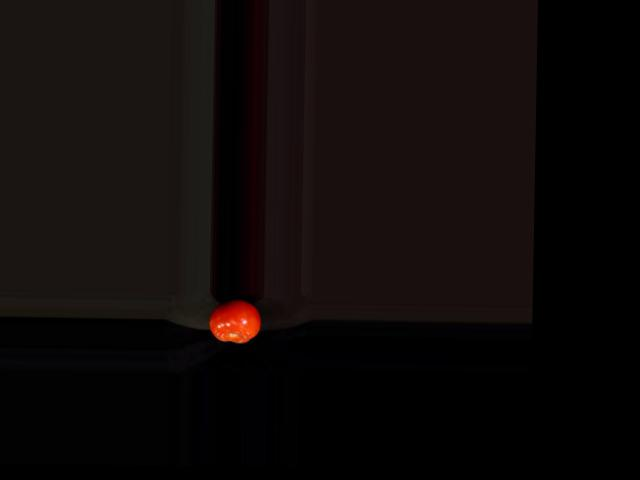tomato: (209, 299, 262, 343)
